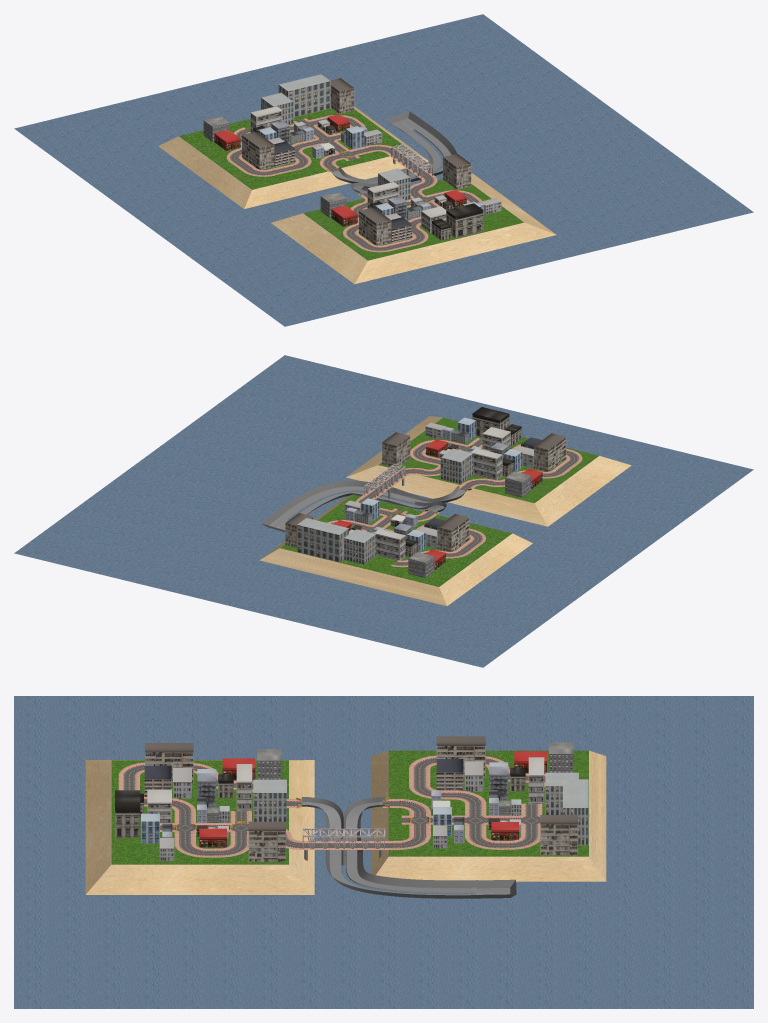
The model's file is Track-6-RD-grp.fbx.
The picture shows the model from 3 angles, top to bottom: view 1: azimuth 30°, elevation 25°; view 2: azimuth 150°, elevation 25°; view 3: azimuth 270°, elevation 25°; orthographic projection. The views are drawn at different scales.
Visible parts, largest first — view 1: Water, Buildings, pCube14, pCube12, FP_sprt, Rd_sprt, La_river_RD, Garder_3; view 2: Water, Buildings, pCube12, pCube14, La_river_RD, FP_sprt, Rd_sprt, Garder_3; view 3: Water, Buildings, pCube14, pCube12, La_river_RD, Rd_sprt, FP_sprt, Garder_3.
Part boxes in pixels (<box>): Water: <box>14,14,753,326</box>; Buildings: <box>203,74,501,245</box>; pCube14: <box>271,173,556,284</box>; pCube12: <box>158,106,428,208</box>; FP_sprt: <box>226,115,481,252</box>; Rd_sprt: <box>230,117,478,250</box>; La_river_RD: <box>330,111,456,193</box>; Garder_3: <box>391,144,432,178</box>; Water: <box>14,355,753,667</box>; Buildings: <box>285,407,566,577</box>; pCube12: <box>259,494,532,605</box>; pCube14: <box>346,416,631,526</box>; La_river_RD: <box>261,480,466,532</box>; FP_sprt: <box>327,438,582,567</box>; Rd_sprt: <box>331,439,578,565</box>; Garder_3: <box>364,463,405,497</box>; Water: <box>14,696,753,1008</box>; Buildings: <box>115,736,588,861</box>; pCube14: <box>85,760,314,894</box>; pCube12: <box>371,750,606,881</box>; La_river_RD: <box>301,797,516,898</box>; Rd_sprt: <box>123,758,545,855</box>; FP_sprt: <box>118,755,545,857</box>; Garder_3: <box>302,828,385,848</box>.
Size of what is drawn, in the model's own units: 93542 by 7808 by 93542.
